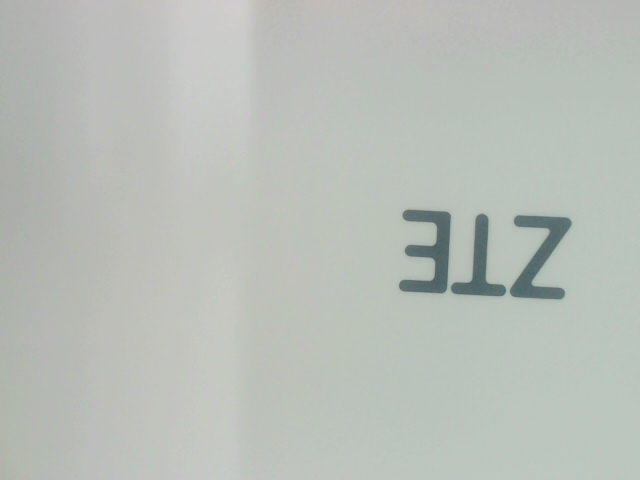AN_ZTE: (385, 196, 576, 304)
